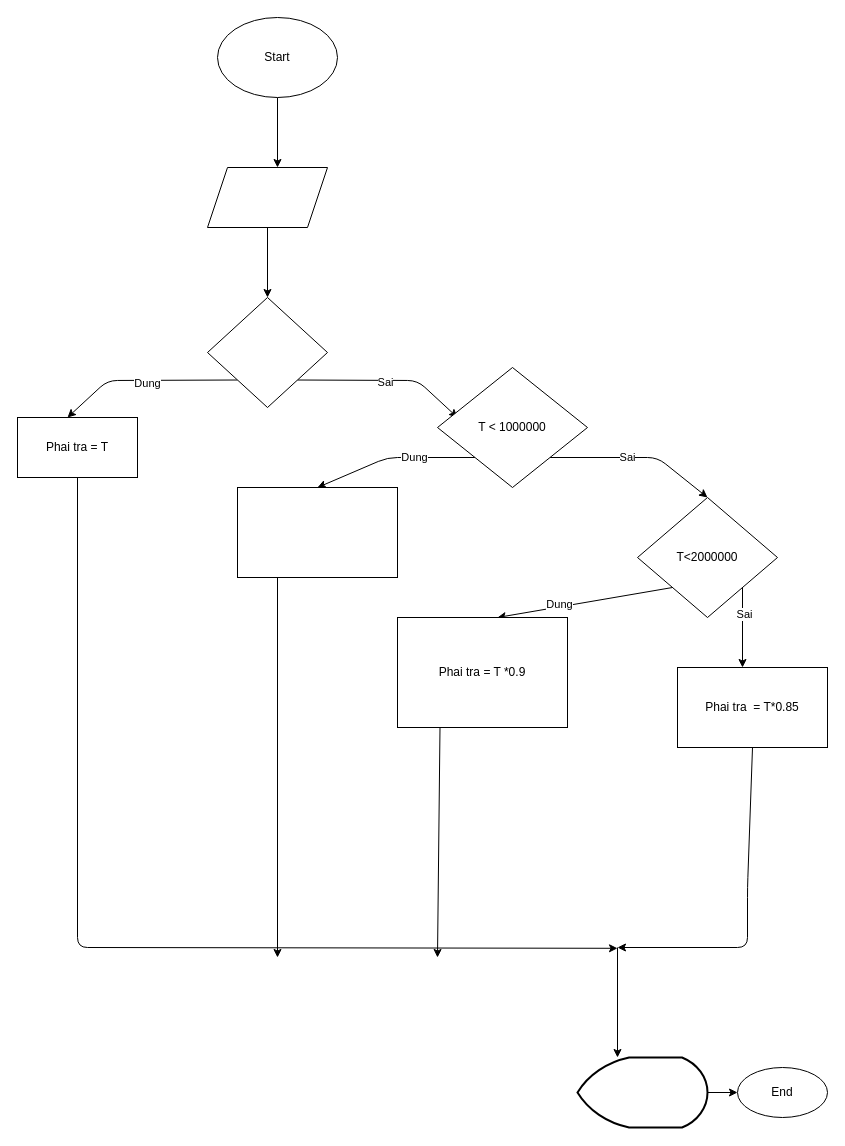
Some shapes in this 845 by 1146 pixel diagram are drawn without their labels. Each missing label, with the centre of its shape:
"Nhap T" goes at [267,197].
"Phai tra=T*0.95" goes at [317,532].
"T<500000" goes at [267,352].
"Xuat phai tra" goes at [642,1092].
